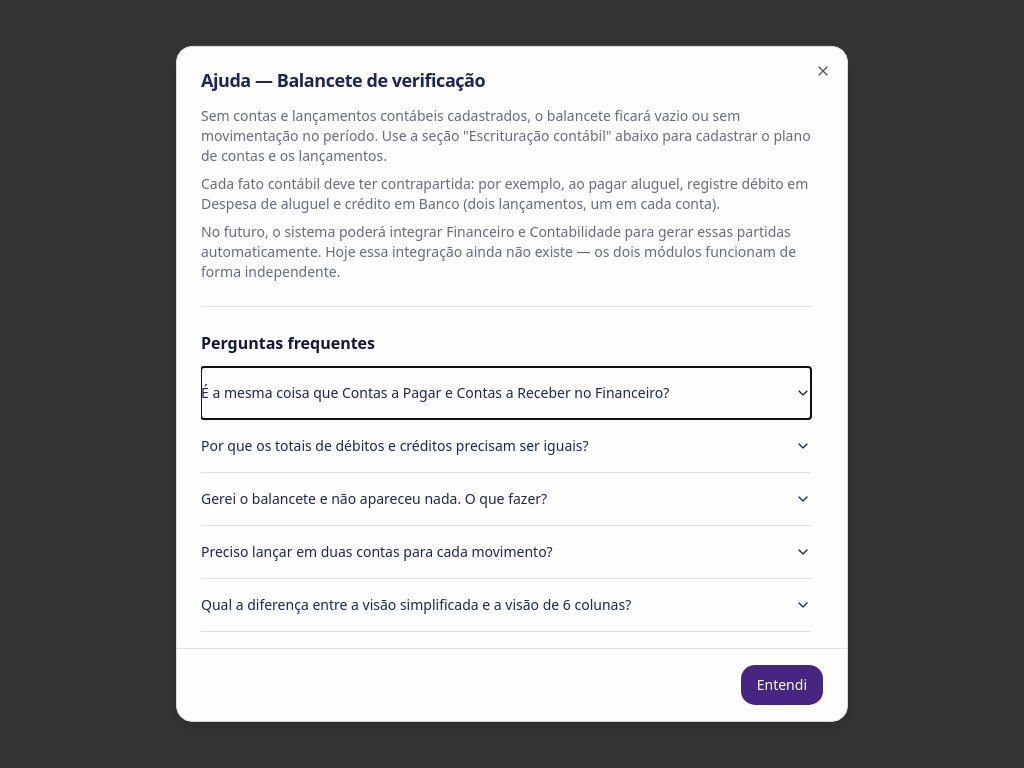
Scenario: BalanceteAjudaModal › expande FAQ e mostra resposta ao clicar na pergunta
(page scrolled)
Click the button "É a mesma coisa que Contas a Pagar e Contas a Receber no Financeiro?": coordinates (506, 393) [201,367,811,419]
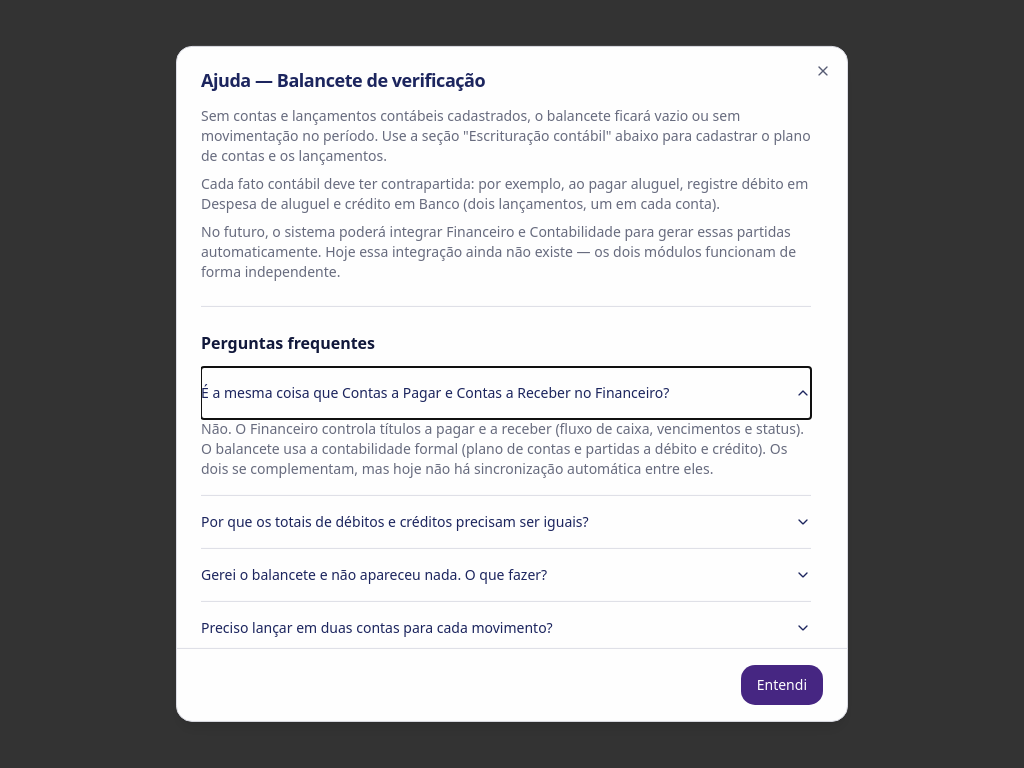
Expected: the text "Não. O Financeiro controla títulos a pagar e a receber (fluxo de caixa, vencimentos e status). O balancete usa a contabi" is shown, [201,419,804,478]
